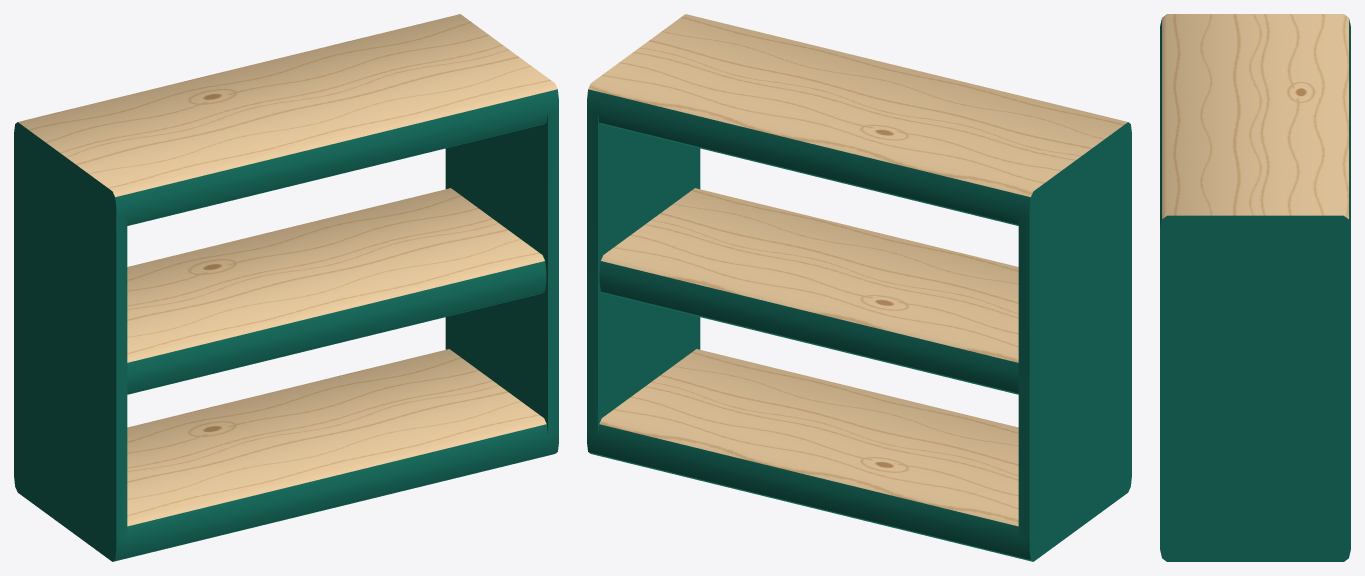
Rendered from upper_c.glb.
3 renders of one model, left to right at view 1: azimuth 30°, elevation 25°; view 2: azimuth 150°, elevation 25°; view 3: azimuth 270°, elevation 25°, orthographic. The views are drawn at different scales.
Visible parts, largest first — view 1: body; view 2: body; view 3: body.
Part boxes in pixels (x1,y1,x2,y2): body: (14, 14, 558, 561); body: (587, 14, 1131, 561); body: (1160, 14, 1350, 561).
Bounding box in the file's own units: 0.9 × 0.72 × 0.36.
Materials: 2 (1 with a texture image).
